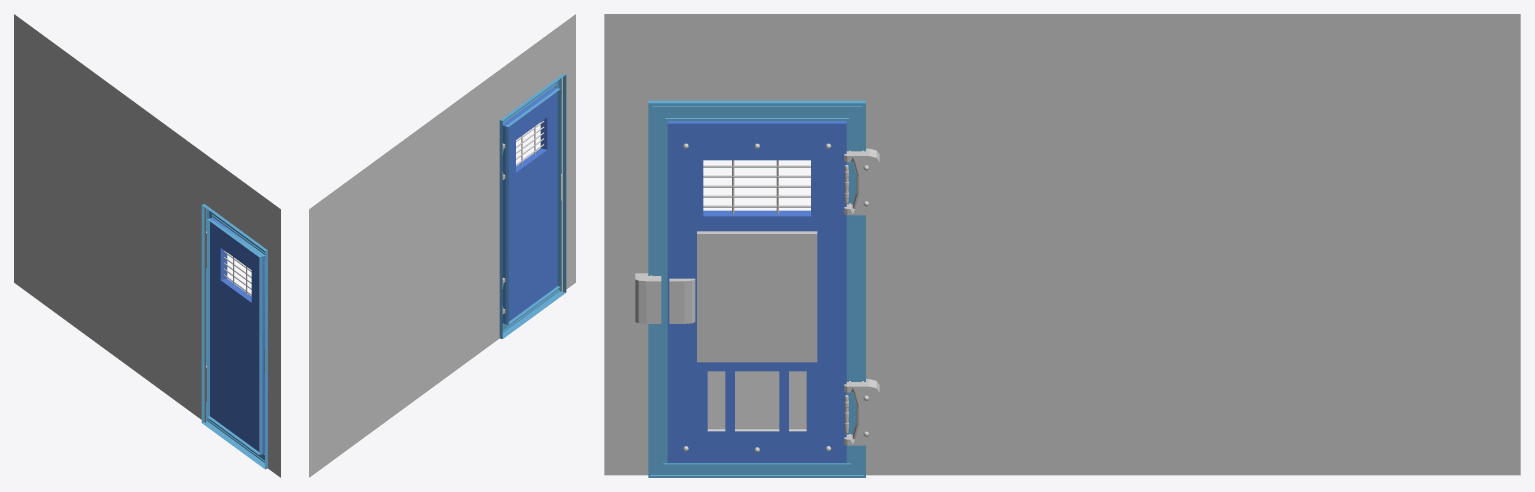
File: FacilityDoorWall.fbx
3 renders of one model, left to right at view 1: azimuth 30°, elevation 25°; view 2: azimuth 150°, elevation 25°; view 3: azimuth 270°, elevation 25°, orthographic. The views are drawn at different scales.
Parts seen in each view (by area): view 1: Plane, Door, Frame, Holder, HorizontalBar; view 2: Plane, Door, Frame, Holder, HorizontalBar; view 3: Plane, Door, Frame, DoorSlab, Holder, HorizontalBar, Lock, DoorLock.
Part boxes in pixels (x1,y1,x2,y2): Plane: (14, 14, 280, 477); Door: (210, 217, 264, 454); Frame: (201, 204, 267, 469); Holder: (200, 231, 206, 401); HorizontalBar: (223, 251, 251, 295); Plane: (309, 14, 575, 477); Door: (502, 87, 557, 323); Frame: (499, 74, 566, 338); Holder: (495, 143, 505, 317); HorizontalBar: (516, 121, 544, 165); Plane: (604, 14, 1520, 475); Door: (667, 121, 846, 462); Frame: (648, 100, 865, 477); DoorSlab: (697, 231, 817, 362); Holder: (844, 148, 879, 445); HorizontalBar: (703, 165, 810, 207); Lock: (635, 273, 661, 323); DoorLock: (669, 278, 695, 323).
Size of the model in its own units: 13.37 by 250 by 450.
